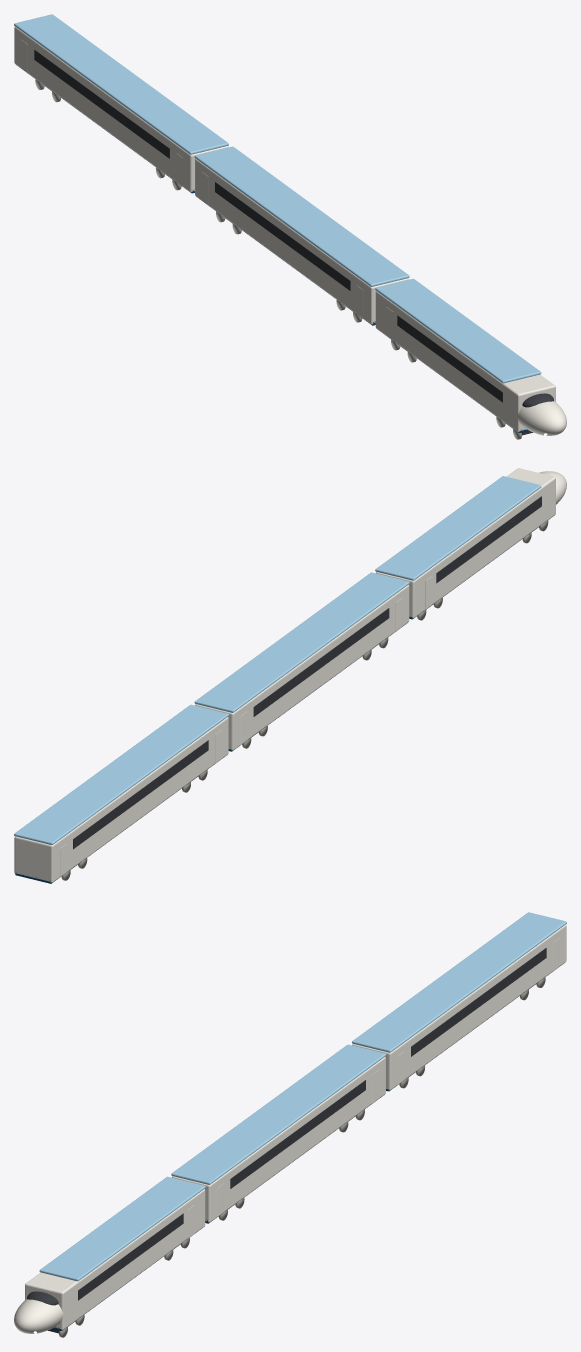
Rendered from KTXTrain_blockout.glb.
The picture shows the model from 3 angles, top to bottom: view 1: azimuth 30°, elevation 25°; view 2: azimuth 150°, elevation 25°; view 3: azimuth 330°, elevation 25°; orthographic projection.
Visible parts, largest first — view 1: VEH01_KTXTrain_CoachARoof_L0, VEH01_KTXTrain_CoachBRoof_L0, VEH01_KTXTrain_CoachABody_L0, VEH01_KTXTrain_CoachBBody_L0, VEH01_KTXTrain_LeadRoof_L0, VEH01_KTXTrain_LeadBody_L0, VEH01_KTXTrain_CoachAWindowsL_L0, VEH01_KTXTrain_CoachBWindowsL_L0, VEH01_KTXTrain_LeadNose_L0, VEH01_KTXTrain_LeadWindowsL_L0; view 2: VEH01_KTXTrain_CoachARoof_L0, VEH01_KTXTrain_CoachBRoof_L0, VEH01_KTXTrain_CoachBBody_L0, VEH01_KTXTrain_CoachABody_L0, VEH01_KTXTrain_LeadRoof_L0, VEH01_KTXTrain_LeadBody_L0, VEH01_KTXTrain_CoachAWindowsL_L0, VEH01_KTXTrain_CoachBWindowsL_L0, VEH01_KTXTrain_LeadWindowsL_L0; view 3: VEH01_KTXTrain_CoachARoof_L0, VEH01_KTXTrain_CoachBRoof_L0, VEH01_KTXTrain_CoachABody_L0, VEH01_KTXTrain_CoachBBody_L0, VEH01_KTXTrain_LeadRoof_L0, VEH01_KTXTrain_LeadBody_L0, VEH01_KTXTrain_CoachAWindowsR_L0, VEH01_KTXTrain_CoachBWindowsR_L0, VEH01_KTXTrain_LeadNose_L0, VEH01_KTXTrain_LeadWindowsR_L0.
Part boxes in pixels (<box>): VEH01_KTXTrain_CoachARoof_L0: <box>194,146,409,286</box>; VEH01_KTXTrain_CoachBRoof_L0: <box>14,14,228,154</box>; VEH01_KTXTrain_CoachABody_L0: <box>195,159,408,324</box>; VEH01_KTXTrain_CoachBBody_L0: <box>14,26,228,192</box>; VEH01_KTXTrain_LeadRoof_L0: <box>375,278,541,383</box>; VEH01_KTXTrain_LeadBody_L0: <box>375,291,555,431</box>; VEH01_KTXTrain_CoachAWindowsL_L0: <box>215,182,350,290</box>; VEH01_KTXTrain_CoachBWindowsL_L0: <box>34,50,169,158</box>; VEH01_KTXTrain_LeadNose_L0: <box>517,401,566,435</box>; VEH01_KTXTrain_LeadWindowsL_L0: <box>397,315,502,402</box>; VEH01_KTXTrain_CoachARoof_L0: <box>194,572,409,712</box>; VEH01_KTXTrain_CoachBRoof_L0: <box>14,704,228,844</box>; VEH01_KTXTrain_CoachBBody_L0: <box>14,717,228,882</box>; VEH01_KTXTrain_CoachABody_L0: <box>195,585,409,750</box>; VEH01_KTXTrain_LeadRoof_L0: <box>375,476,541,580</box>; VEH01_KTXTrain_LeadBody_L0: <box>376,468,555,618</box>; VEH01_KTXTrain_CoachAWindowsL_L0: <box>253,608,389,716</box>; VEH01_KTXTrain_CoachBWindowsL_L0: <box>73,740,208,849</box>; VEH01_KTXTrain_LeadWindowsL_L0: <box>436,496,541,583</box>; VEH01_KTXTrain_CoachARoof_L0: <box>171,1044,386,1184</box>; VEH01_KTXTrain_CoachBRoof_L0: <box>352,912,566,1052</box>; VEH01_KTXTrain_CoachABody_L0: <box>172,1057,385,1222</box>; VEH01_KTXTrain_CoachBBody_L0: <box>352,924,566,1090</box>; VEH01_KTXTrain_LeadRoof_L0: <box>39,1176,205,1281</box>; VEH01_KTXTrain_LeadBody_L0: <box>25,1189,205,1329</box>; VEH01_KTXTrain_CoachAWindowsR_L0: <box>230,1080,365,1188</box>; VEH01_KTXTrain_CoachBWindowsR_L0: <box>411,948,546,1056</box>; VEH01_KTXTrain_LeadNose_L0: <box>14,1299,63,1333</box>; VEH01_KTXTrain_LeadWindowsR_L0: <box>78,1213,183,1300</box>.
Bounding box in the file's own units: 3 × 3.9 × 70.
